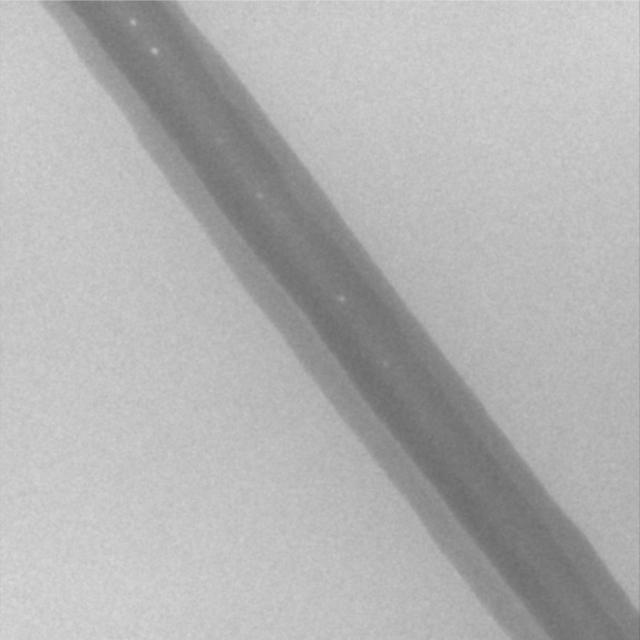air hole: (128, 17, 139, 27), (337, 294, 346, 304), (149, 47, 158, 56), (256, 190, 264, 200)
